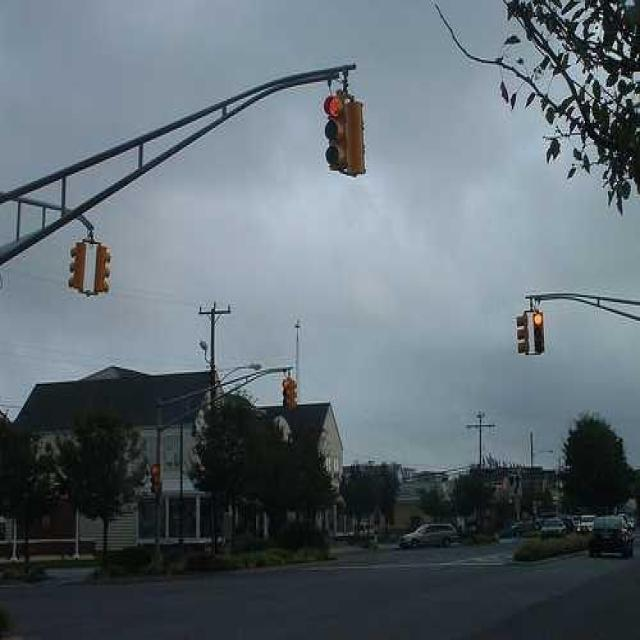Traffic Light -Red-: (320, 84, 353, 179), (531, 309, 547, 353), (280, 377, 296, 413)
